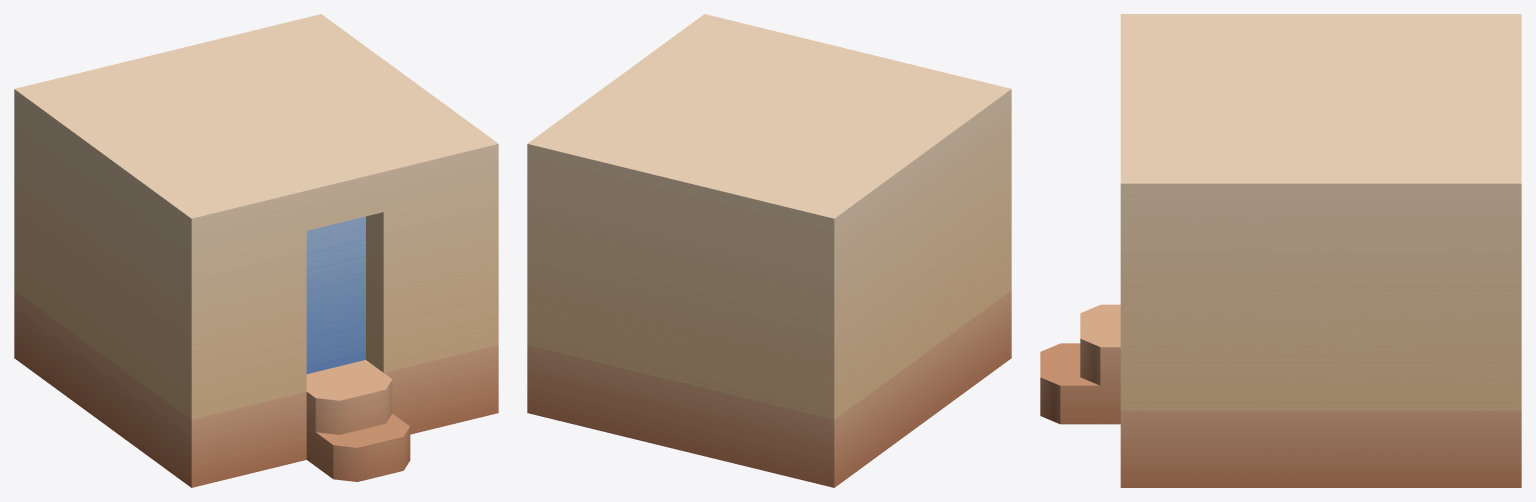
The model's file is building-steps-narrow.glb.
3 renders of one model, left to right at view 1: azimuth 30°, elevation 25°; view 2: azimuth 150°, elevation 25°; view 3: azimuth 270°, elevation 25°, orthographic. The views are drawn at different scales.
Parts seen in each view (by area): view 1: building-steps-narrow; view 2: building-steps-narrow; view 3: building-steps-narrow.
Boxes of the visible parts, x1=… form: building-steps-narrow: x1=14, y1=14, x2=498, y2=487; building-steps-narrow: x1=527, y1=14, x2=1011, y2=487; building-steps-narrow: x1=1040, y1=14, x2=1521, y2=487.
Size of the model in its own units: 1 by 0.8375 by 1.2.
1 material, 1 textured.
